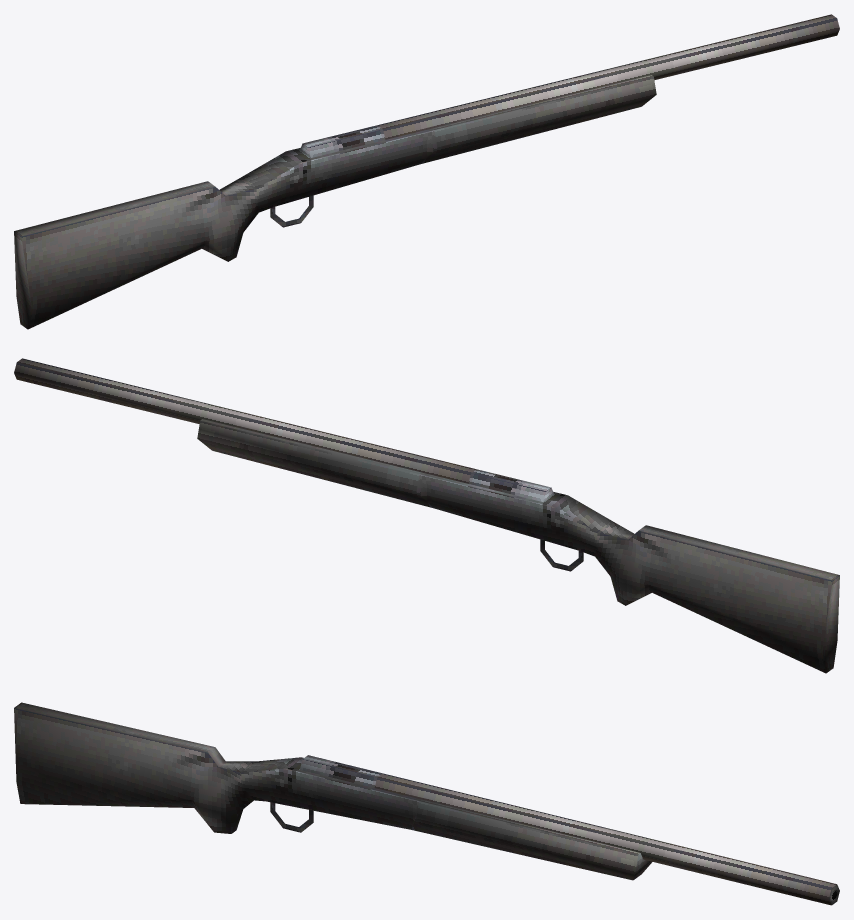
File: remington700__N001_rem700_low_v0200.glb
3 renders of one model, top to bottom at view 1: azimuth 30°, elevation 25°; view 2: azimuth 150°, elevation 25°; view 3: azimuth 330°, elevation 25°, orthographic.
Parts seen in each view (by area): view 1: N001_rem700_low_v0200; view 2: N001_rem700_low_v0200; view 3: N001_rem700_low_v0200.
Part boxes in pixels (bbox=[...]): N001_rem700_low_v0200: bbox=[14, 14, 839, 329]; N001_rem700_low_v0200: bbox=[14, 358, 839, 673]; N001_rem700_low_v0200: bbox=[14, 702, 839, 905].
Size of the model in its own units: 1.14 by 0.1498 by 0.0511.
2 materials, 2 textured.
